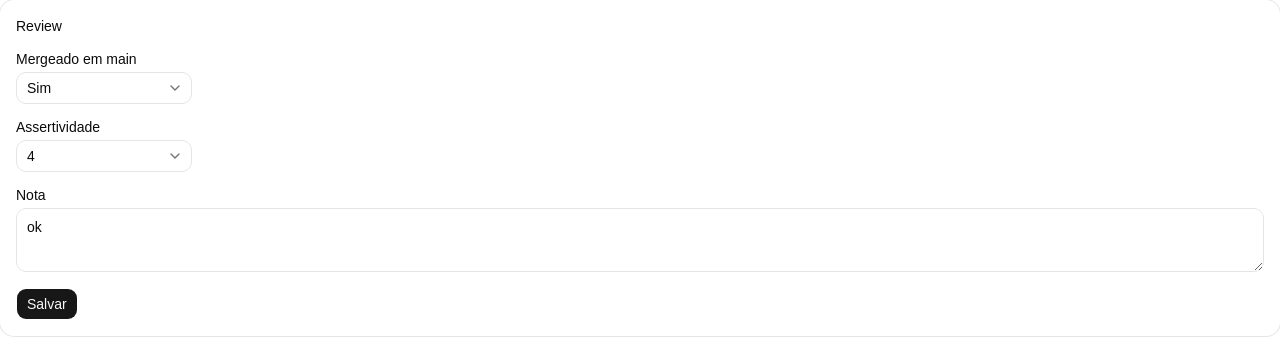
Scenario: CicloReviewForm › submete e mostra estado salvo (isDirty=false)
Step 1. Replace the text in the text box labelled "Nota" with "nota nova" → (640, 240), box 16,208 -> 1264,272
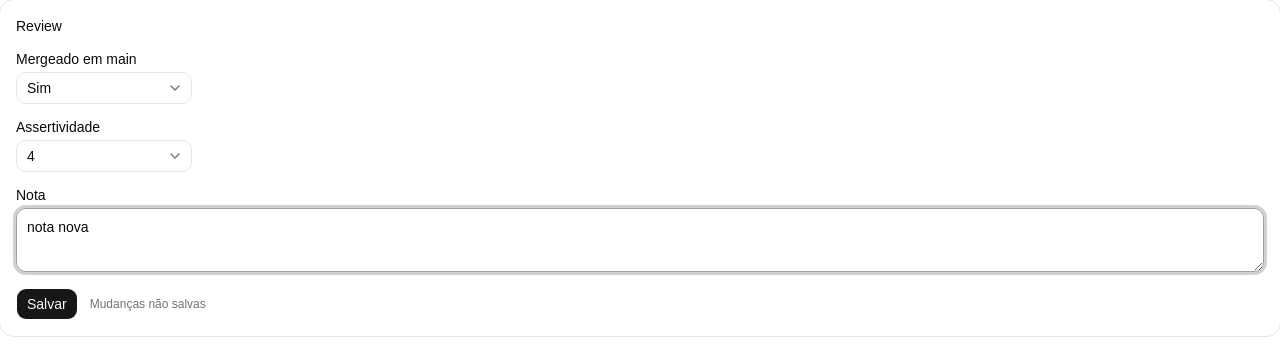
Step 2. Click the button "Salvar" → click(47, 304), box 16,288 -> 78,320
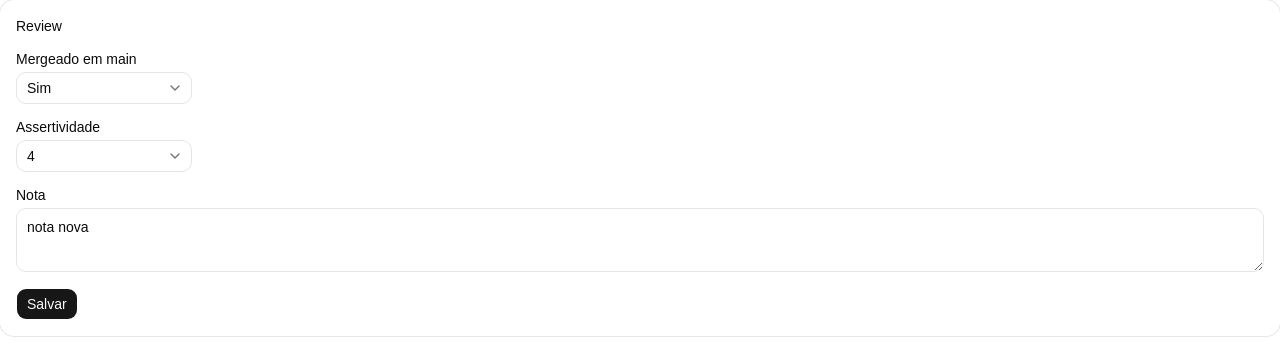
Now the text "Mudanças não salvas" is gone
